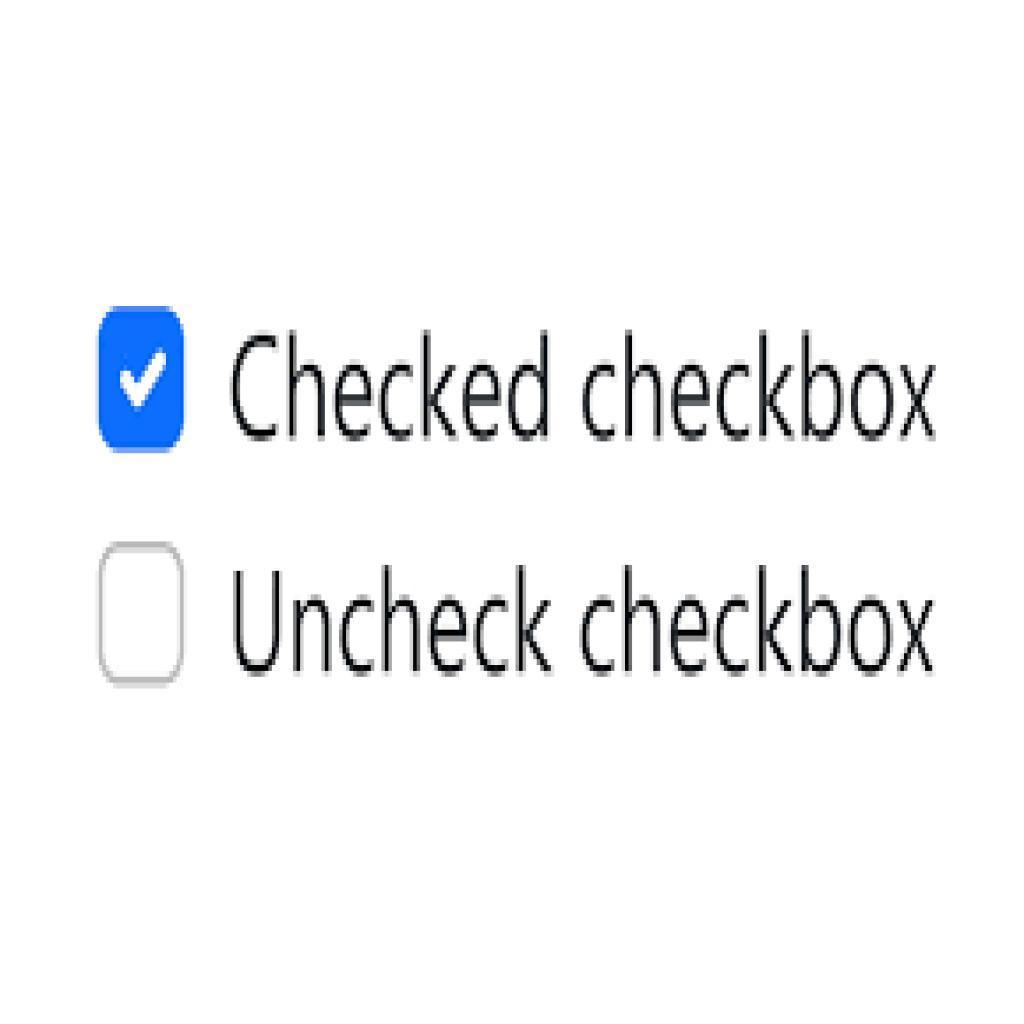checkbox: (101, 306, 186, 451), (101, 542, 183, 686)
label: (232, 556, 939, 688), (229, 326, 941, 446)
